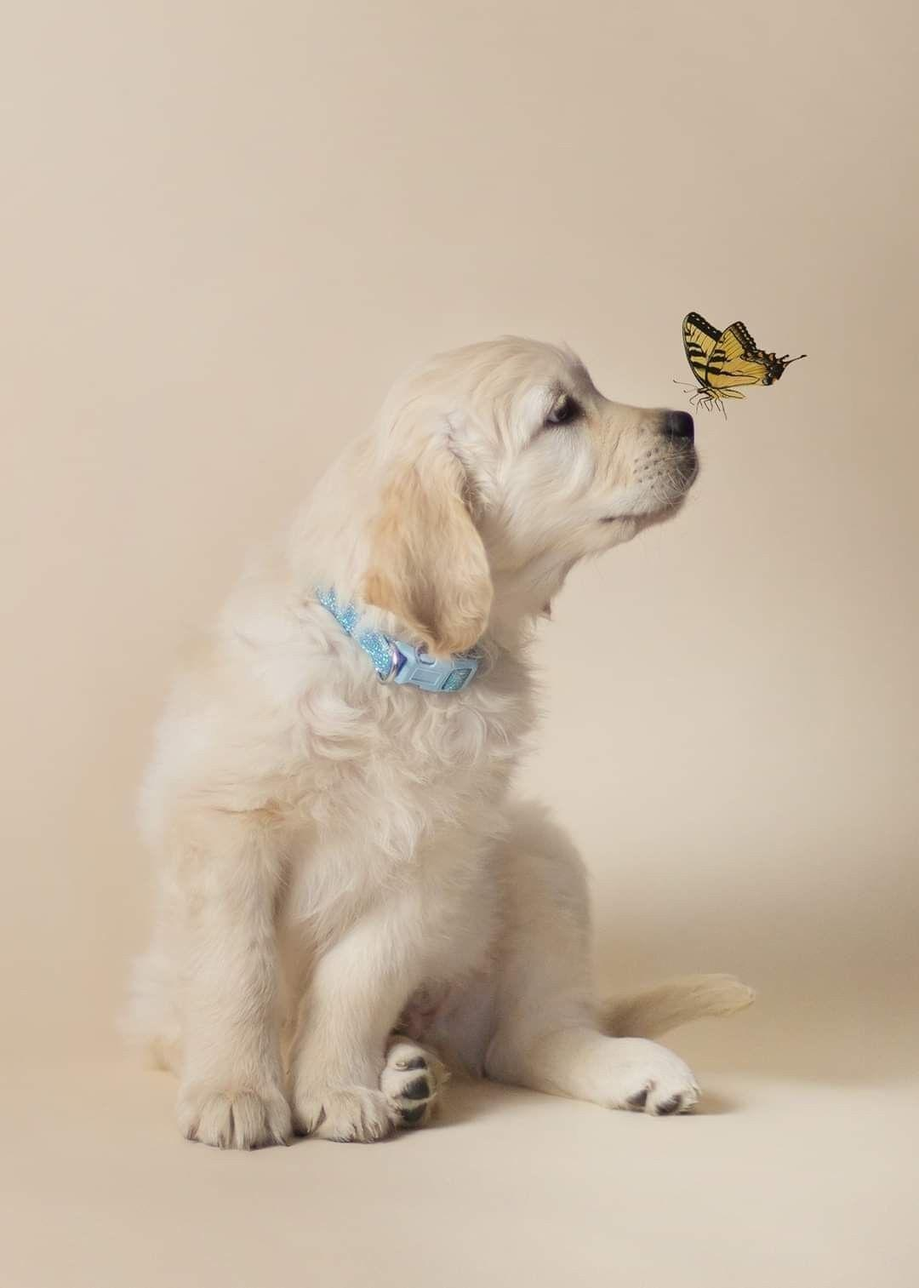non-dog: (674, 308, 808, 420)
puppy-dog: (117, 335, 757, 1154)
